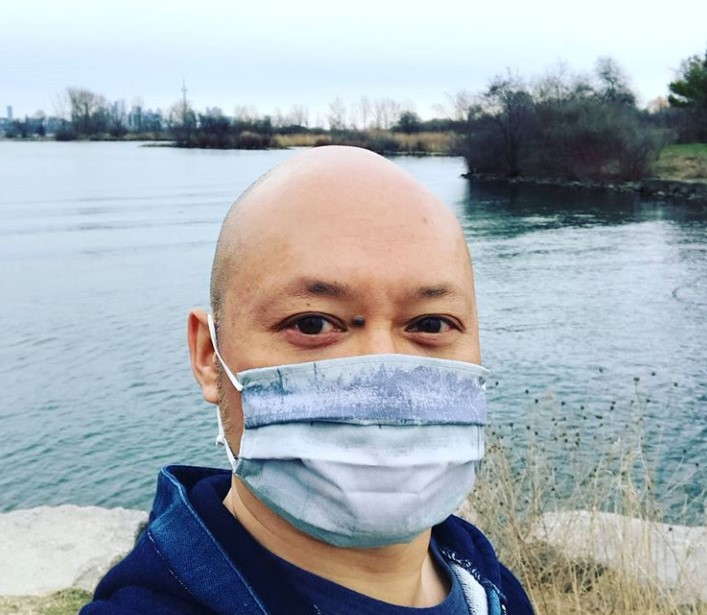face_with_mask: (183, 149, 496, 553)
